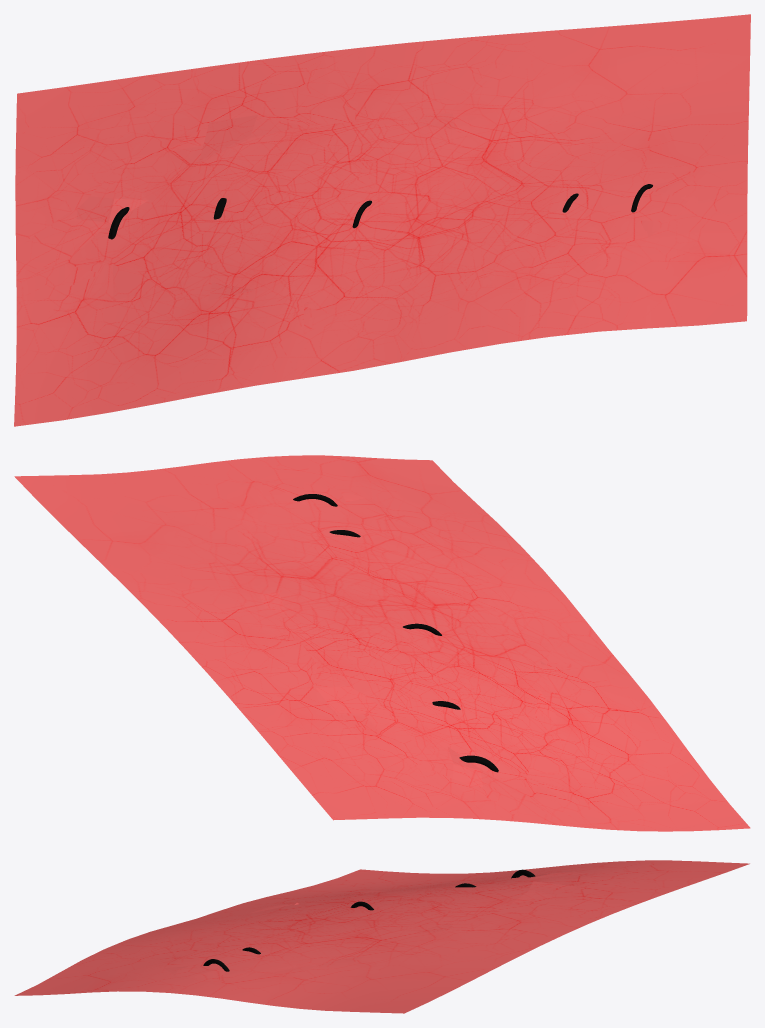
The model's file is Brushina.FBX.
3 views of the same model, one above another, from view 1: azimuth 30°, elevation 25°; view 2: azimuth 150°, elevation 25°; view 3: azimuth 270°, elevation 25° (orthographic). The views are drawn at different scales.
Visible parts, largest first — view 1: brushina 1 polozhenie, brushina 2 polozhenie, brushina 3 polozhenie, brushina 6 polozhenie, seam poin 3, seam poin 2, brushina 4 polozhenie, brushina 7 polozhenie; view 2: brushina 1 polozhenie, brushina 2 polozhenie, brushina 3 polozhenie, brushina 6 polozhenie, seam poin 3, brushina 4 polozhenie, seam poin 2; view 3: brushina 1 polozhenie, brushina 2 polozhenie, brushina 6 polozhenie, brushina 3 polozhenie, brushina 7 polozhenie, seam poin 3.
Part boxes in pixels (x1,y1,x2,y2): brushina 1 polozhenie: (14,14,750,426); brushina 2 polozhenie: (15,100,698,322); brushina 3 polozhenie: (16,117,697,271); brushina 6 polozhenie: (115,126,698,237); seam poin 3: (199,115,257,160); seam poin 2: (113,265,160,300); brushina 4 polozhenie: (64,125,222,287); brushina 7 polozhenie: (110,184,652,239); brushina 1 polozhenie: (14,455,750,831); brushina 2 polozhenie: (244,477,588,821); brushina 3 polozhenie: (250,477,554,824); brushina 6 polozhenie: (222,480,458,706); seam poin 3: (316,686,393,714); brushina 4 polozhenie: (336,702,561,801); seam poin 2: (529,745,568,775); brushina 1 polozhenie: (14,860,749,1013); brushina 2 polozhenie: (138,861,619,982); brushina 6 polozhenie: (163,873,529,985); brushina 3 polozhenie: (171,865,598,980); brushina 7 polozhenie: (203,869,534,971); seam poin 3: (529,881,578,894).
Bounding box in the file's own units: 53.44 × 13.96 × 50.78.
